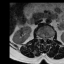CCS_normal: (44, 34, 46, 43)
LFS_stenosis: (48, 35, 50, 41)
LLS_stenosis: (46, 34, 48, 41)
RFS_normal: (39, 34, 42, 40)
RLS_normal: (42, 34, 44, 41)
